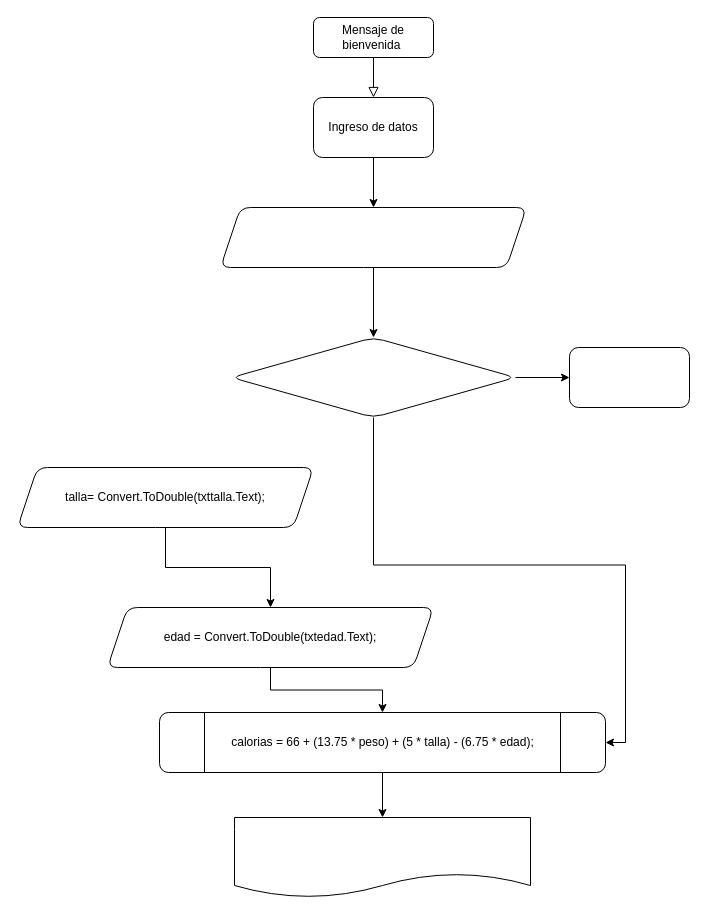
The diagram is 707 pixels wide and 915 high, and some of its shapes have lost their labels. Each missing label, with the centre of its shape:
!string.IsNullOrEmpty(txttalla.Text): [373,377]
lblresultado.Text = calorias.ToString() + " kcal/dia ";: [382,857]
peso = Convert.ToDouble(txtpeso.Text);: [373,237]
